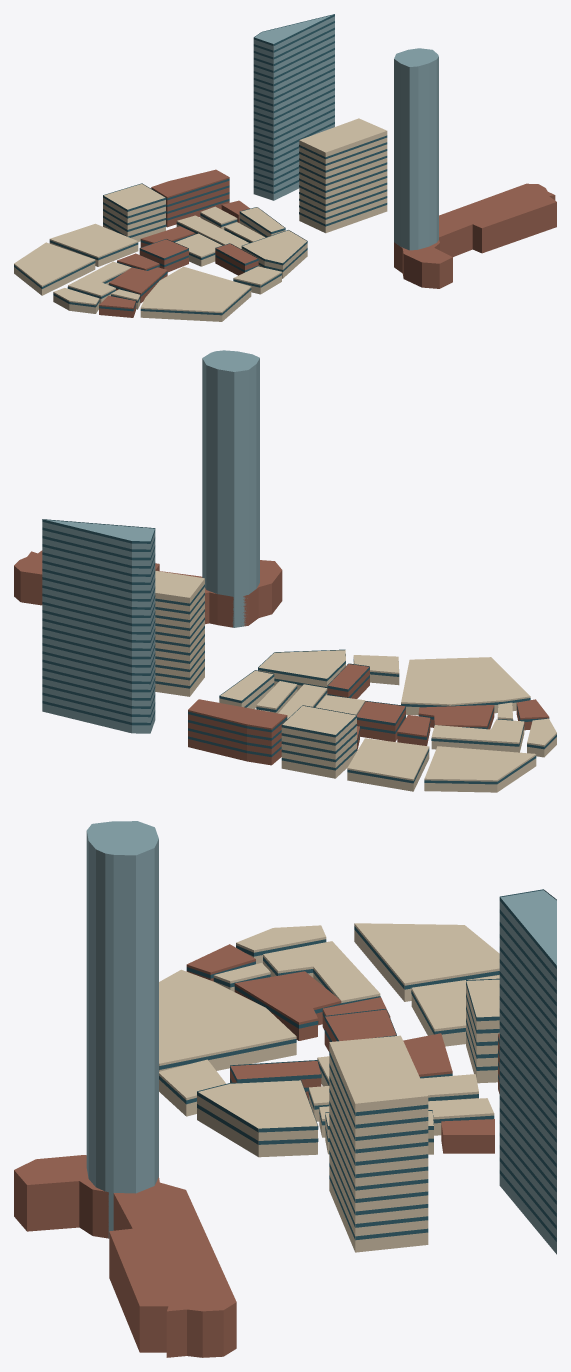
The model's file is city_-1_6.glb.
3 renders of one model, top to bottom at view 1: azimuth 30°, elevation 25°; view 2: azimuth 150°, elevation 25°; view 3: azimuth 270°, elevation 25°, orthographic. The views are drawn at different scales.
Visible parts, largest first — view 1: city_-1_6; view 2: city_-1_6; view 3: city_-1_6.
Part boxes in pixels (<box>): city_-1_6: <box>14,14,556,321</box>; city_-1_6: <box>14,350,556,792</box>; city_-1_6: <box>14,821,556,1357</box>.
Bounding box in the file's own units: 288 × 124 × 159.
